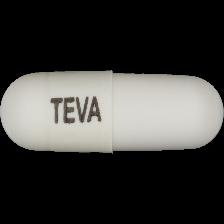0093-0812: (0, 0, 224, 224)
